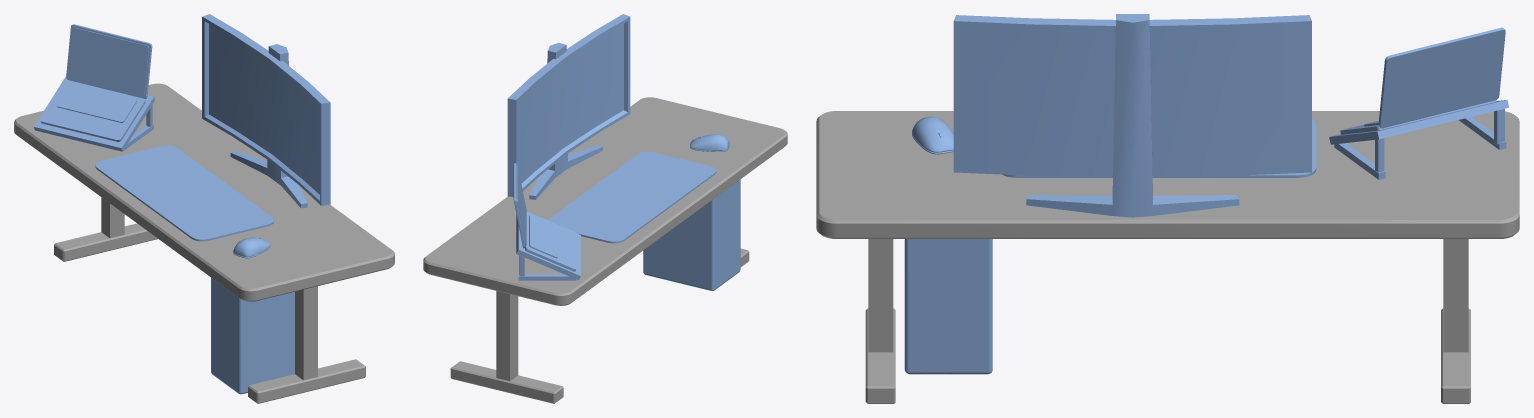
File: desk-transformed.glb
3 views of the same model, side by side, from view 1: azimuth 30°, elevation 25°; view 2: azimuth 150°, elevation 25°; view 3: azimuth 270°, elevation 25° (orthographic). The views are drawn at different scales.
Parts seen in each view (by area): view 1: Merged Geometry 10.002, Merged Geometry.002; view 2: Merged Geometry 10.002, Merged Geometry.002; view 3: Merged Geometry 10.002, Merged Geometry.002.
Boxes of the visible parts, box(x1,y1,x2,y2) form: Merged Geometry 10.002: box(34, 14, 330, 394); Merged Geometry.002: box(14, 83, 394, 403); Merged Geometry 10.002: box(507, 14, 740, 290); Merged Geometry.002: box(423, 97, 787, 403); Merged Geometry 10.002: box(904, 14, 1508, 374); Merged Geometry.002: box(816, 111, 1519, 403).
Size of the model in its own units: 124 by 202 by 331.
